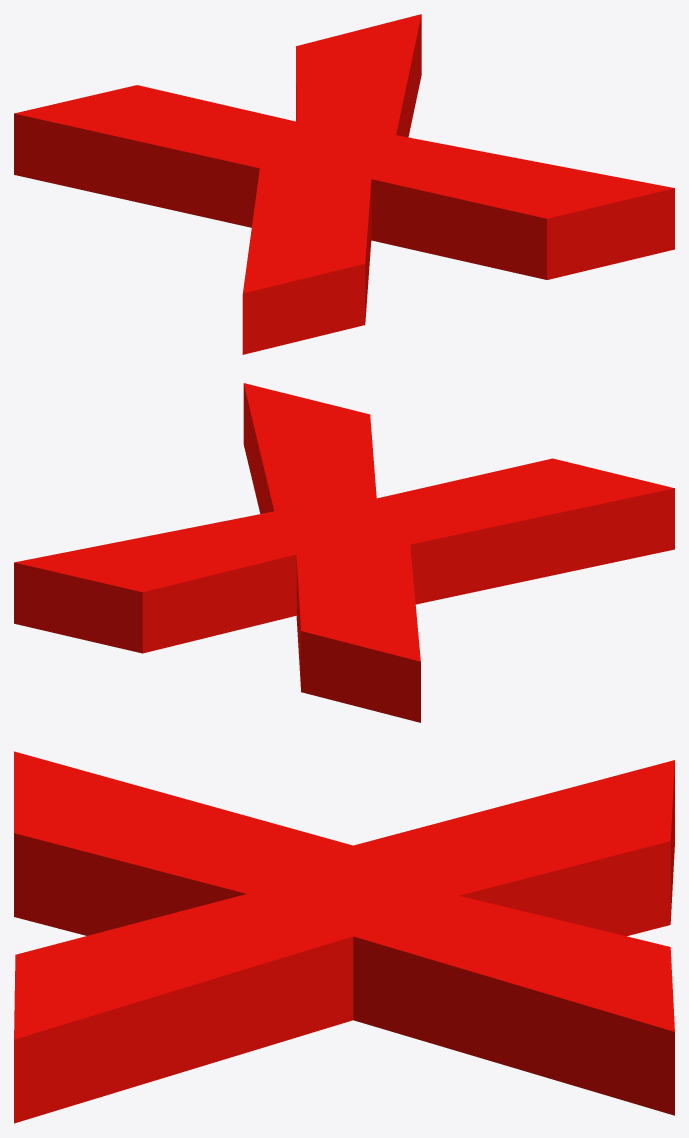
File: x_map.glb
3 views of the same model, one above another, from view 1: azimuth 30°, elevation 25°; view 2: azimuth 150°, elevation 25°; view 3: azimuth 270°, elevation 25° (orthographic). The views are drawn at different scales.
Parts seen in each view (by area): view 1: Texto; view 2: Texto; view 3: Texto.
Part boxes in pixels (x1,y1,x2,y2): Texto: (14,14,674,354); Texto: (14,383,674,722); Texto: (14,751,674,1123).
Bounding box in the file's own units: 0.704 × 0.0955 × 0.682.
